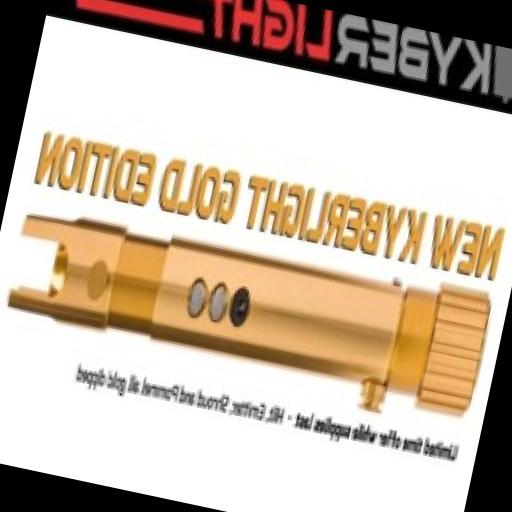lightsaber: (0, 192, 494, 442)
